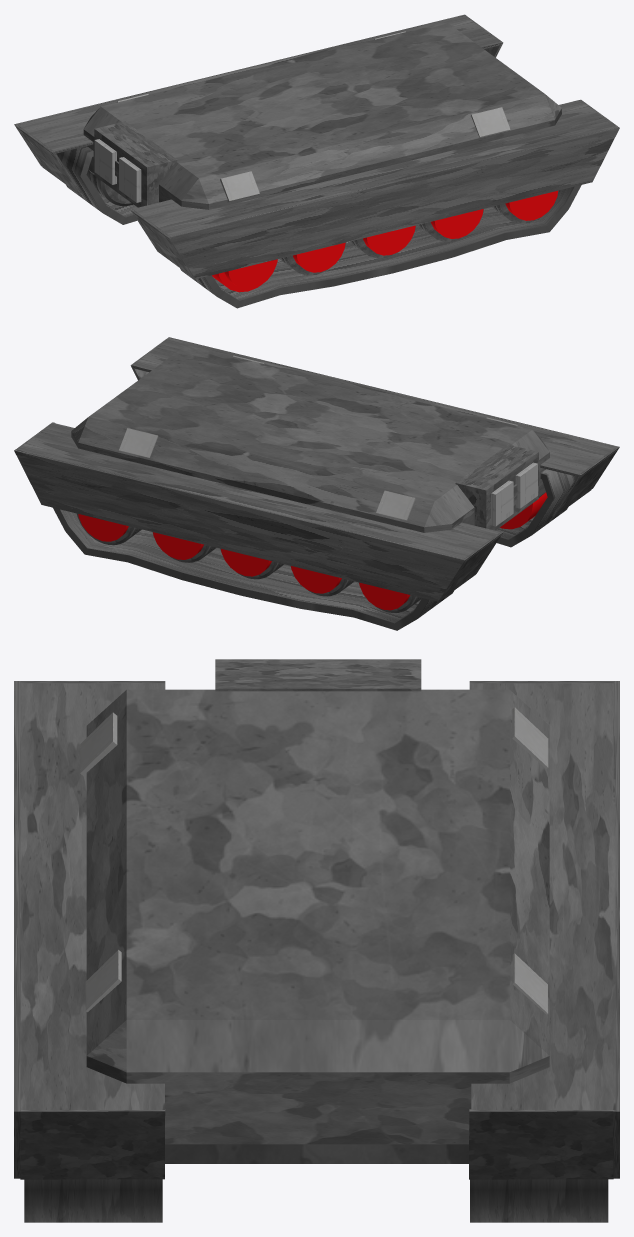
Rendered from Bottom_tank_blender_enemy.glb.
3 views of the same model, one above another, from view 1: azimuth 30°, elevation 25°; view 2: azimuth 150°, elevation 25°; view 3: azimuth 270°, elevation 25° (orthographic). The views are drawn at different scales.
Parts seen in each view (by area): view 1: pCylinder25; view 2: pCylinder25; view 3: pCylinder25.
Boxes of the visible parts, box(x1,y1,x2,y2) form: pCylinder25: box(14, 14, 619, 308); pCylinder25: box(14, 337, 619, 630); pCylinder25: box(14, 659, 619, 1222).
Bounding box in the file's own units: 9.5 × 2.38 × 5.65.
5 materials, 4 textured.
